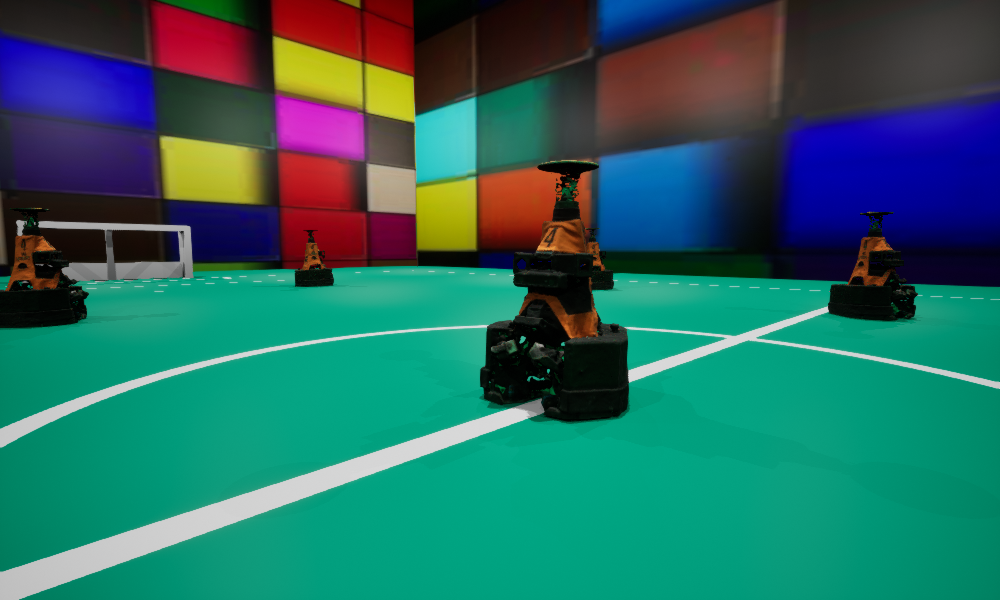0 orange robot TechUnited: (480, 160, 628, 418), (0, 208, 88, 327), (828, 212, 917, 320), (576, 228, 613, 289), (295, 230, 333, 286)
